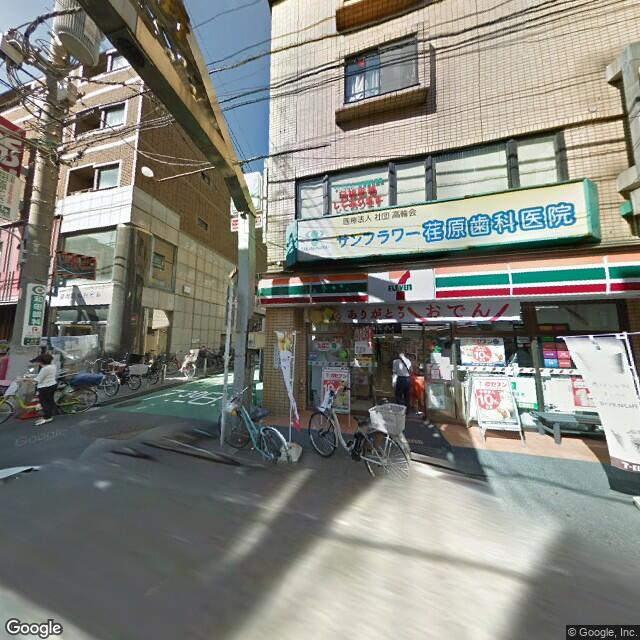7-eleven: (256, 245, 639, 314)
